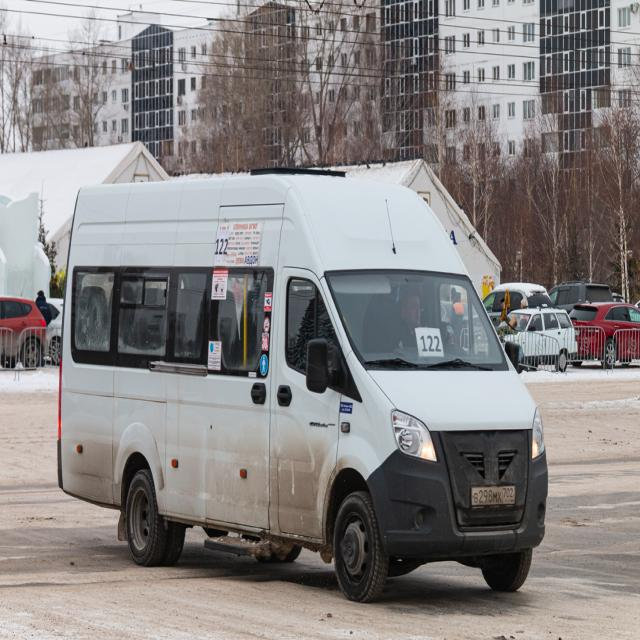number-of-bus: (419, 332, 443, 355), (215, 236, 230, 260)
